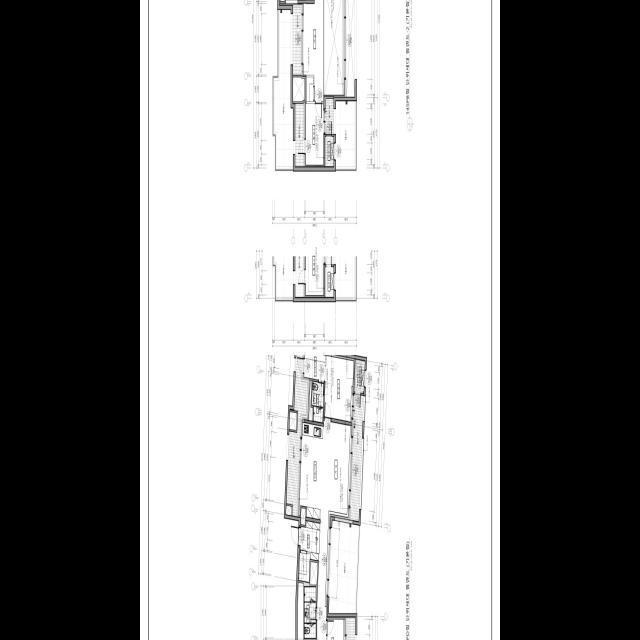background: (140, 0, 500, 640)
space_balconi: (286, 347, 308, 516), (274, 9, 293, 166), (329, 520, 359, 613), (350, 393, 364, 521), (336, 101, 355, 166), (295, 103, 305, 166), (293, 7, 301, 74), (325, 98, 334, 134), (347, 617, 355, 640)
space_bedroom: (324, 355, 354, 421), (306, 103, 324, 164), (327, 619, 345, 640)
space_dressroom: (304, 351, 325, 380)
space_front: (300, 520, 320, 560)
space_kitchen: (299, 422, 323, 519)
space_living_room: (317, 420, 352, 640), (303, 0, 324, 101)
space_other: (324, 0, 344, 94), (298, 582, 316, 640), (346, 0, 355, 96), (299, 552, 310, 581), (293, 77, 305, 101), (306, 76, 314, 101), (310, 561, 318, 584), (309, 380, 313, 420), (289, 411, 297, 430), (301, 507, 306, 524), (286, 505, 292, 515)
space_outdoor_room: (354, 359, 365, 393), (325, 136, 334, 166)
space_toilet: (304, 587, 316, 637), (312, 381, 324, 422)
